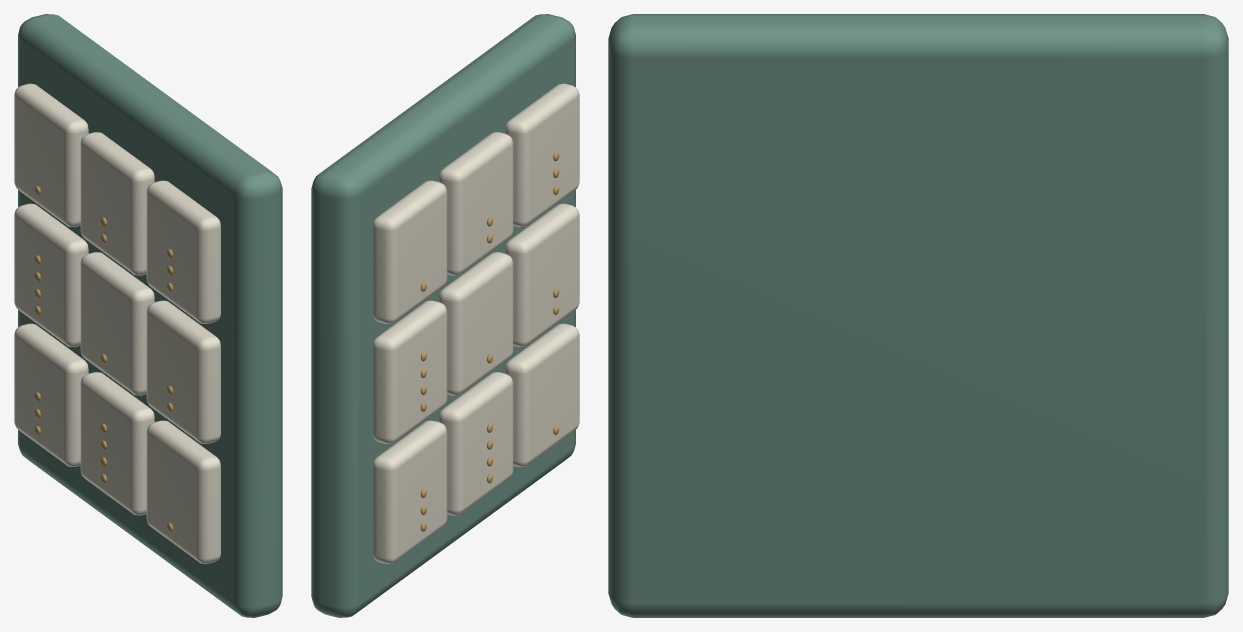
File: fridge_lock.glb
3 renders of one model, left to right at view 1: azimuth 30°, elevation 25°; view 2: azimuth 150°, elevation 25°; view 3: azimuth 270°, elevation 25°, orthographic. The views are drawn at different scales.
Parts seen in each view (by area): view 1: fridge_lock; view 2: fridge_lock; view 3: fridge_lock.
Boxes of the visible parts, left/top/right/bottom form: fridge_lock: left=14, top=14, right=282, bottom=617; fridge_lock: left=311, top=14, right=579, bottom=617; fridge_lock: left=608, top=14, right=1228, bottom=617.
Bounding box in the file's own units: 0.0355 × 0.21 × 0.2.
